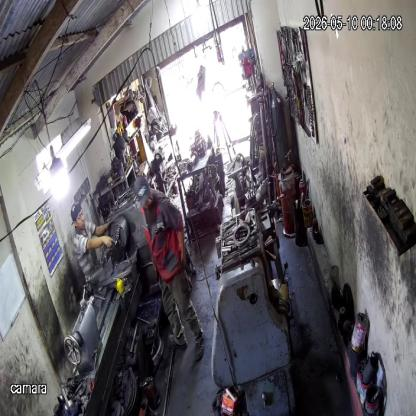sin_lentes: (74, 210, 84, 222)
